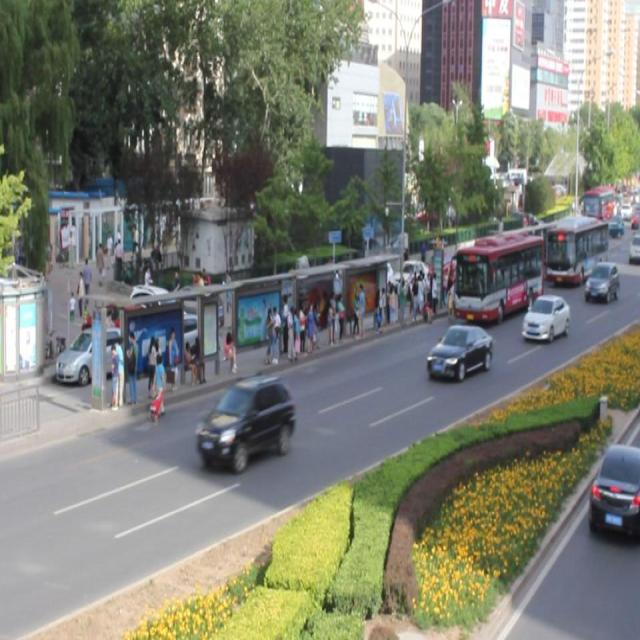car: (196, 374, 294, 472), (426, 324, 491, 384), (521, 294, 568, 342), (582, 262, 616, 303)
van: (447, 232, 538, 326), (543, 214, 606, 284)
